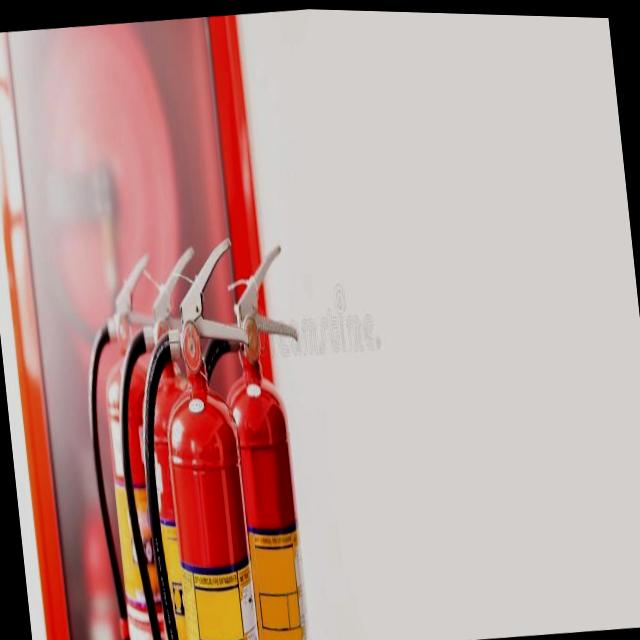FireExtinguisher: (115, 227, 284, 640), (175, 235, 331, 640), (69, 241, 201, 640)
